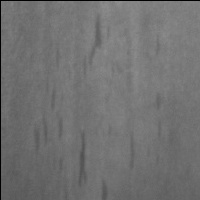inclusion: (25, 71, 66, 154), (79, 12, 118, 74), (70, 124, 94, 191), (121, 125, 140, 174), (97, 174, 113, 200), (154, 116, 167, 145), (151, 30, 164, 59), (153, 90, 165, 113)
